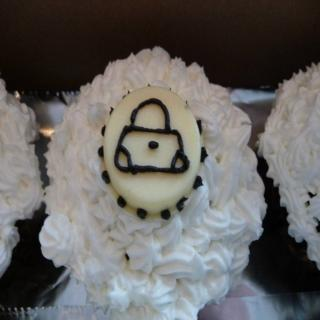Cake: (33, 42, 269, 318), (252, 62, 320, 276), (0, 80, 43, 279)
